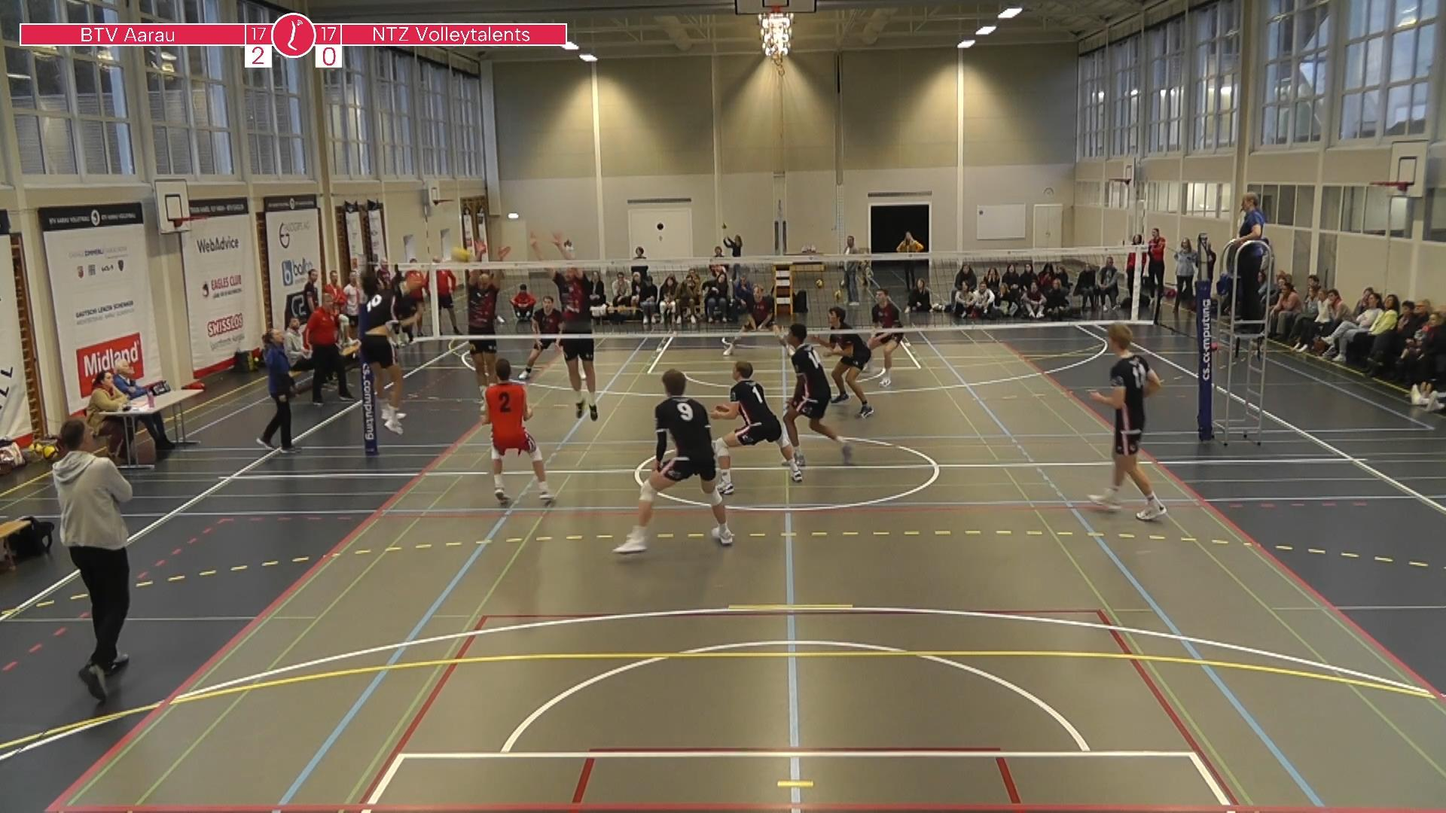attacco: (346, 299, 438, 436)
muro: (528, 231, 616, 420), (459, 231, 506, 413)
